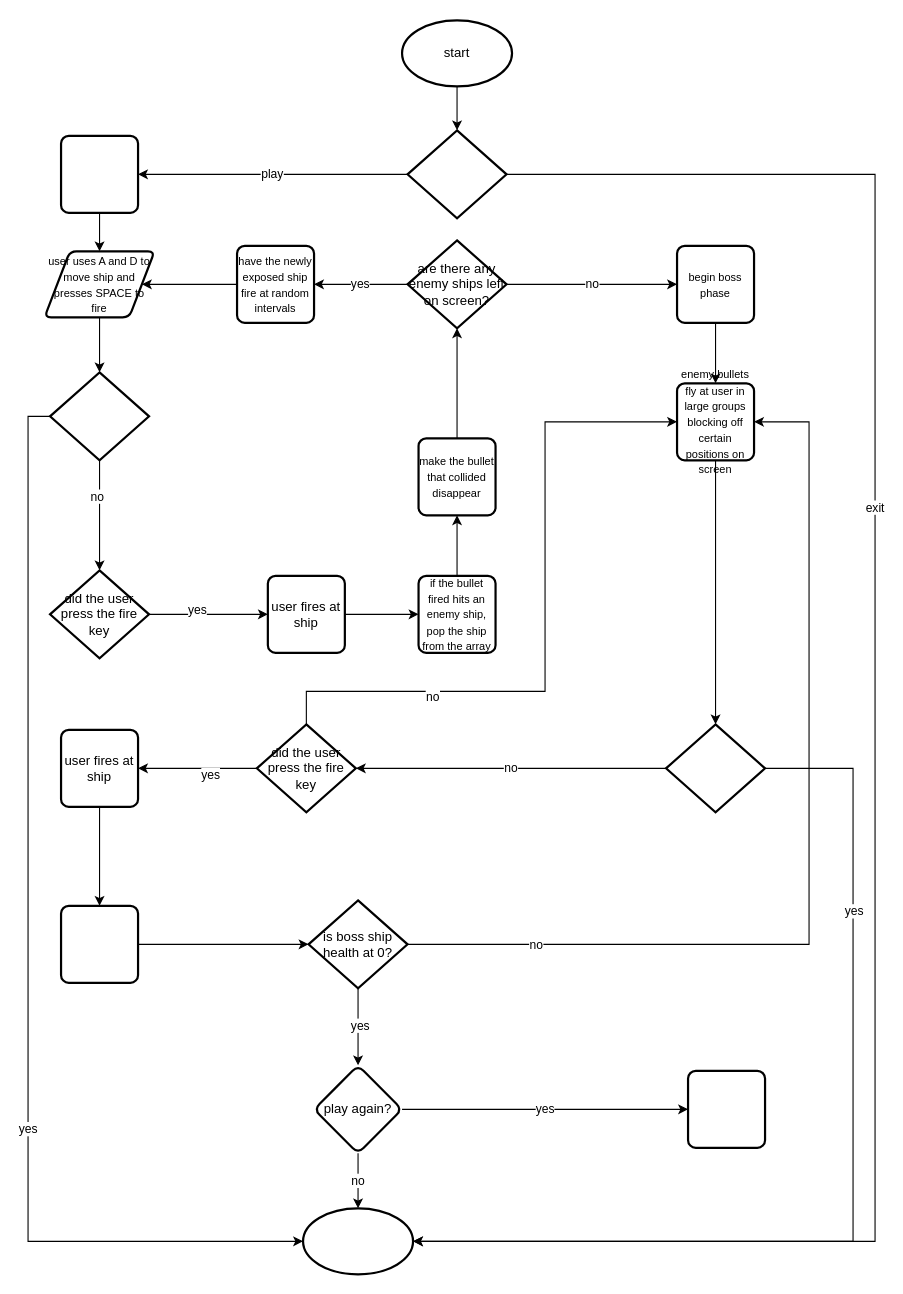
This 903x1294 diagram has some shape labels left out. The shapes that lost their labels are listed below. From the top down, each one's centre as x and y in pixels, then its label:
At (99,173): "display game screen and begin random fire from alien ships".
At (456,174): "start screen".
At (99,416): "did the ship get hit by enemy's bullet?".
At (715,768): "did the ship get hit by bullets?".
At (99,943): "if player bullet hits boss, subtract x amount of health from boss".
At (726,1108): "run again from start screen".
At (357,1241): "end".
